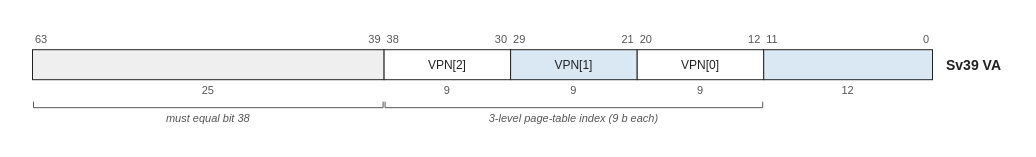
Some shapes in this 1036 by 157 pixel diagram are drawn without their labels. Each missing label, with the centre of its shape:
"page offset" goes at point 847,64.
"sign-ext. of bit 38" goes at point 208,64.
